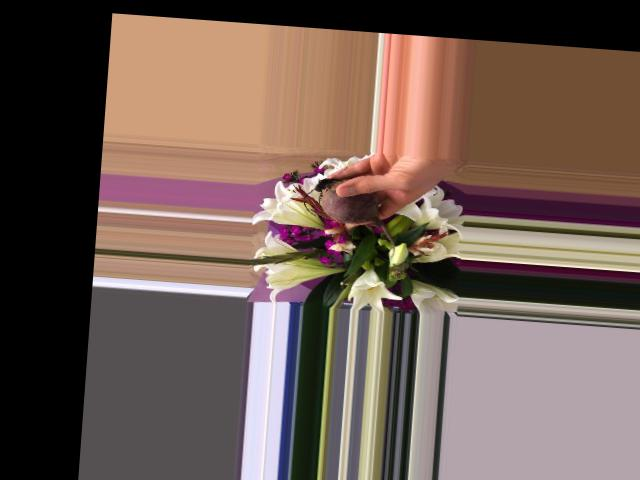beet: (299, 175, 399, 258)
